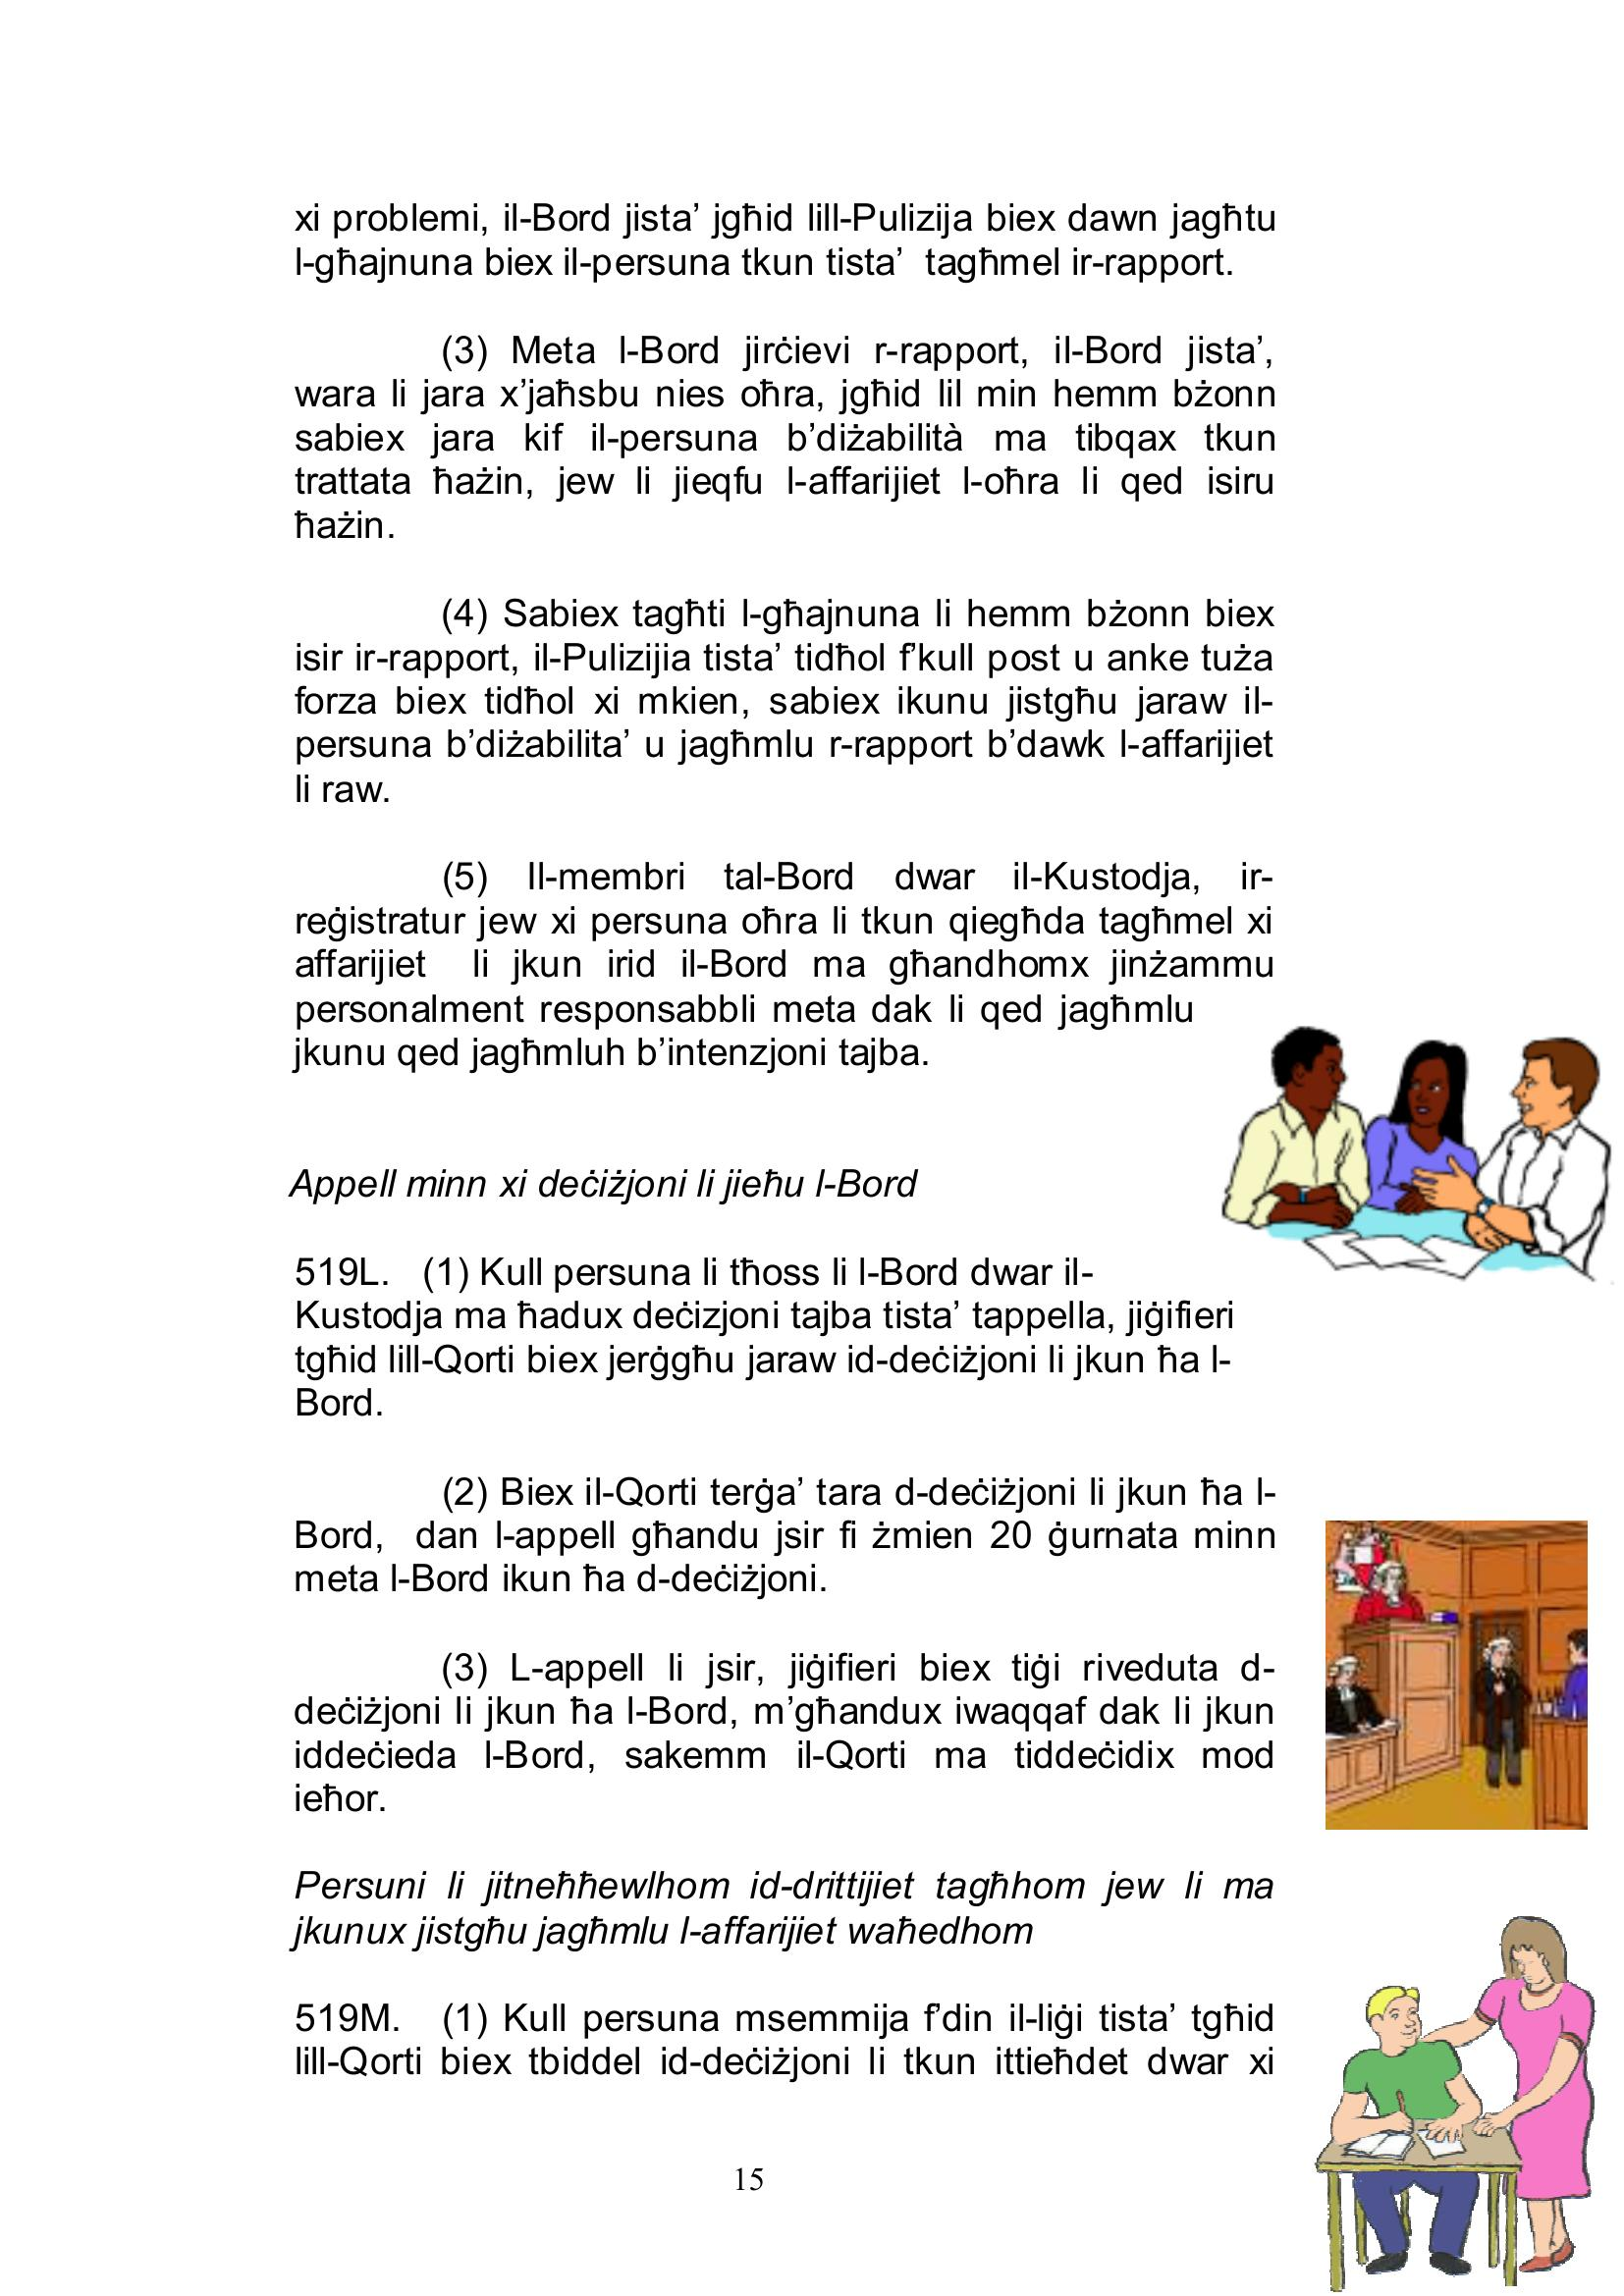text: (258, 172, 1292, 2101)
whiteout: (1204, 989, 1624, 1288)
